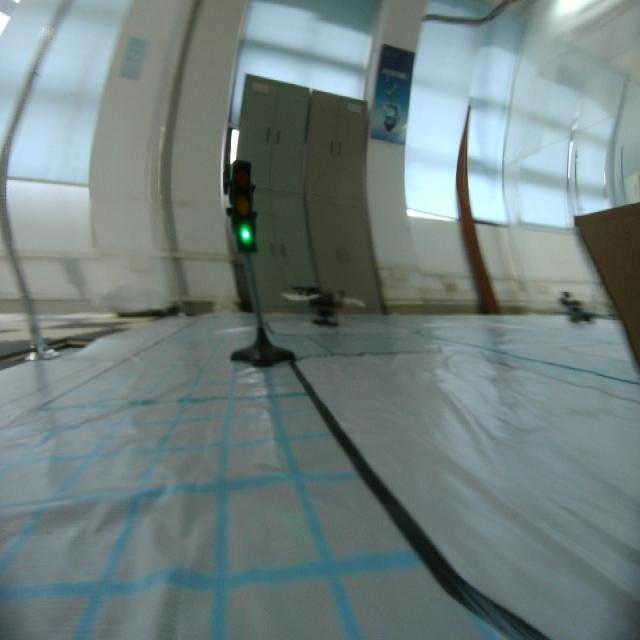green: (218, 156, 266, 260)
